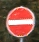No entry: (6, 6, 34, 37)
